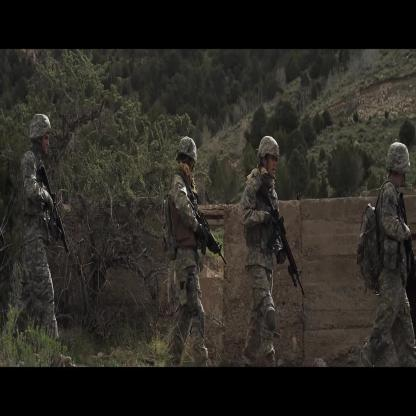Gun: (250, 173, 314, 309), (30, 158, 73, 265), (183, 193, 230, 276)
